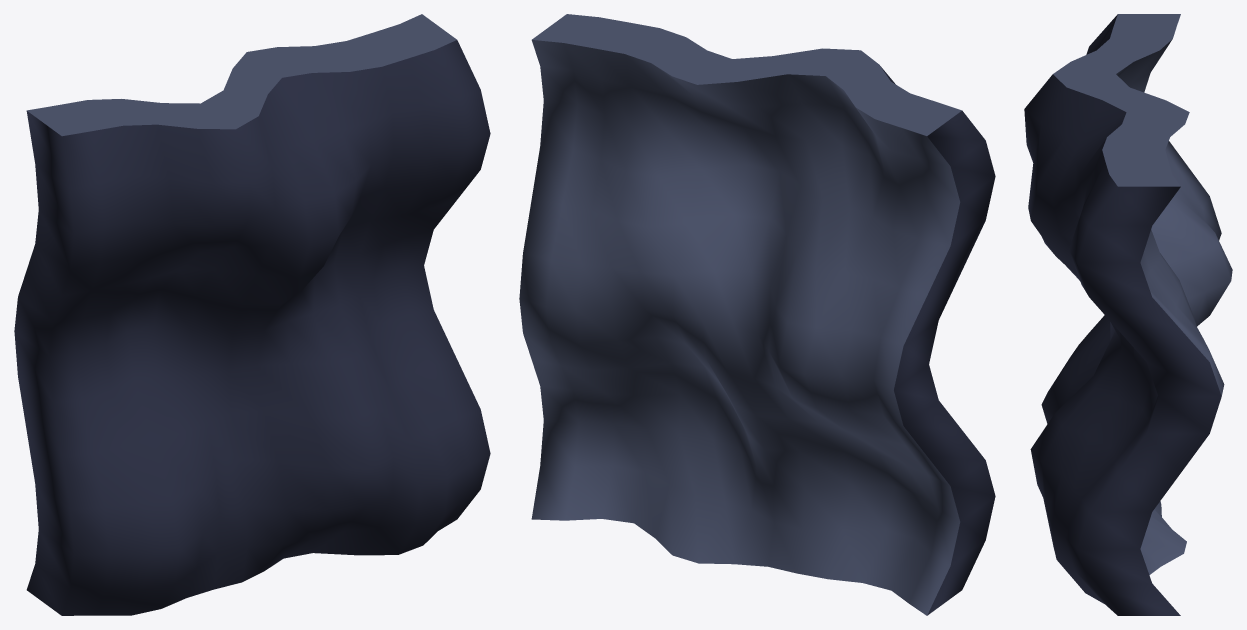
File: SM_Env_StormWall_HQ.glb
3 renders of one model, left to right at view 1: azimuth 30°, elevation 25°; view 2: azimuth 150°, elevation 25°; view 3: azimuth 270°, elevation 25°, orthographic. The views are drawn at different scales.
Visible parts, largest first — view 1: SM_Env_StormWall_HQ; view 2: SM_Env_StormWall_HQ; view 3: SM_Env_StormWall_HQ.
Part boxes in pixels (x1=…): SM_Env_StormWall_HQ: x1=14, y1=14, x2=490, y2=615; SM_Env_StormWall_HQ: x1=519, y1=14, x2=995, y2=615; SM_Env_StormWall_HQ: x1=1024, y1=14, x2=1232, y2=615.
Bounding box in the file's own units: 81.79 × 90 × 39.58.
Materials: 1 (1 with a texture image).
